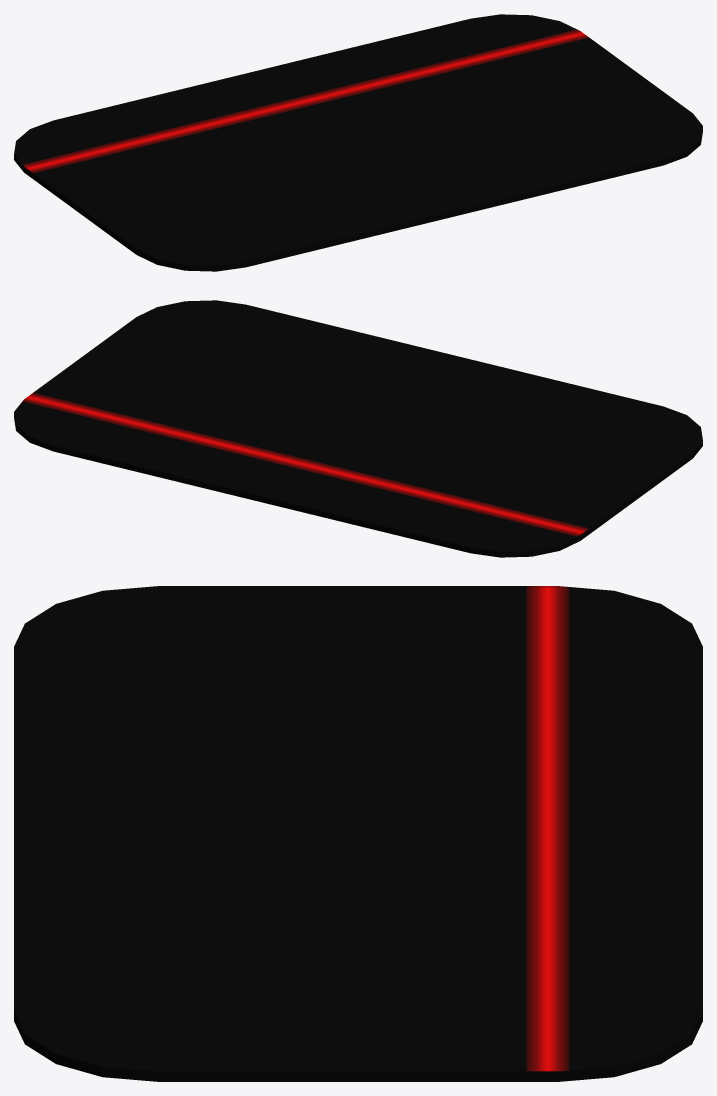
The model's file is card.glb.
3 views of the same model, one above another, from view 1: azimuth 30°, elevation 25°; view 2: azimuth 150°, elevation 25°; view 3: azimuth 270°, elevation 25° (orthographic). The views are drawn at different scales.
Visible parts, largest first — view 1: Cube; view 2: Cube; view 3: Cube.
Boxes of the visible parts, x1=… form: Cube: x1=14, y1=14, x2=702, y2=271; Cube: x1=14, y1=300, x2=702, y2=557; Cube: x1=14, y1=586, x2=702, y2=1081.
Size of the model in its own units: 0.1 by 0.001 by 0.06.
1 material, 1 textured.
